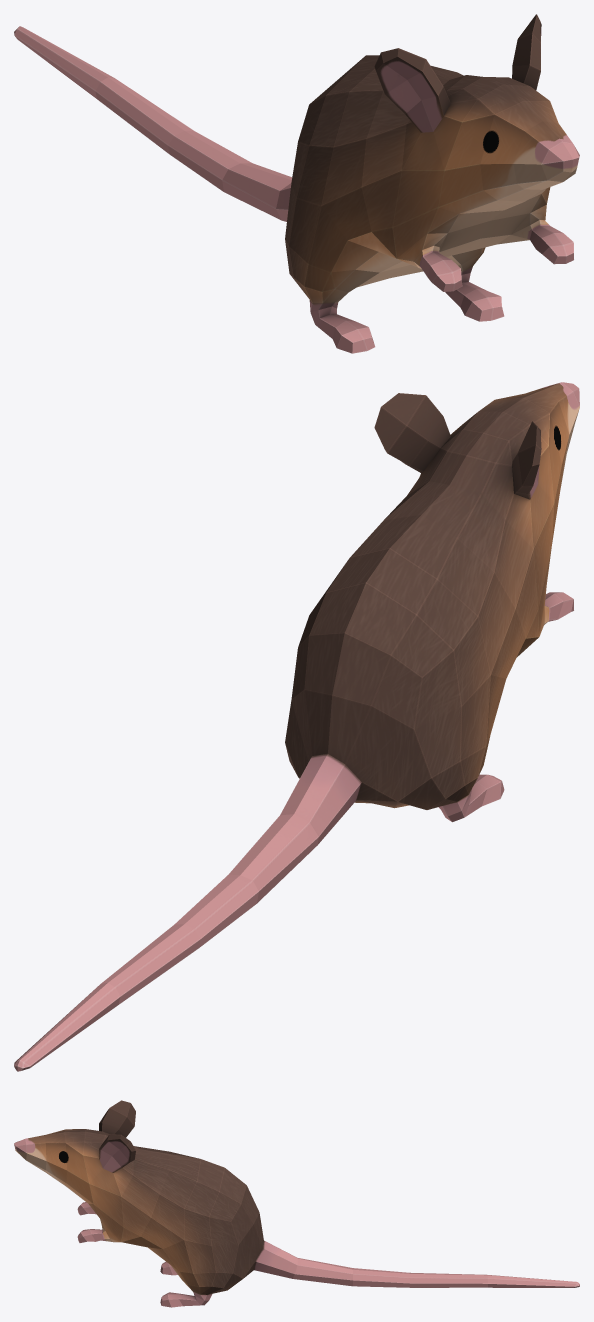
File: rato1.glb
3 views of the same model, one above another, from view 1: azimuth 30°, elevation 25°; view 2: azimuth 150°, elevation 25°; view 3: azimuth 270°, elevation 25° (orthographic). The views are drawn at different scales.
Visible parts, largest first — view 1: CairoSpinyMouse_Mesh; view 2: CairoSpinyMouse_Mesh; view 3: CairoSpinyMouse_Mesh.
Part boxes in pixels (left/top/right/bottom): CairoSpinyMouse_Mesh: left=14, top=14, right=579, bottom=353; CairoSpinyMouse_Mesh: left=14, top=382, right=579, bottom=1071; CairoSpinyMouse_Mesh: left=14, top=1100, right=579, bottom=1307.
Bounding box in the file's own units: 0.7584 × 1.37 × 4.1.
1 material, 1 textured.
